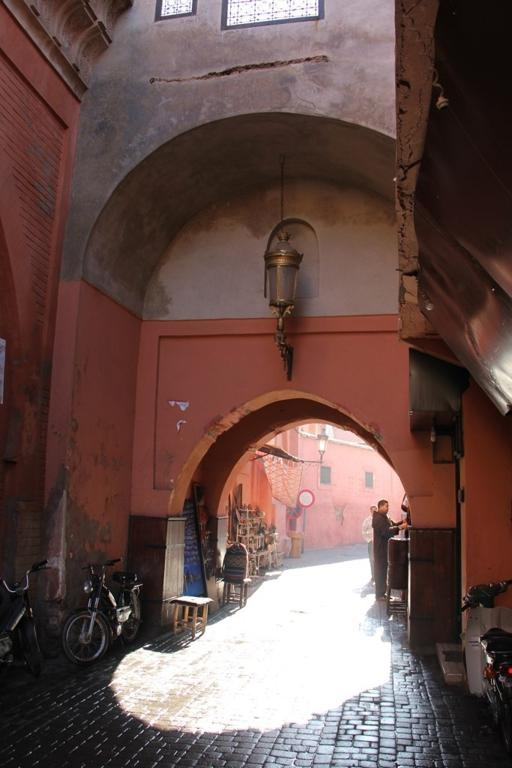non-vehicle: (460, 578, 511, 752), (61, 558, 143, 666), (0, 558, 50, 678)
